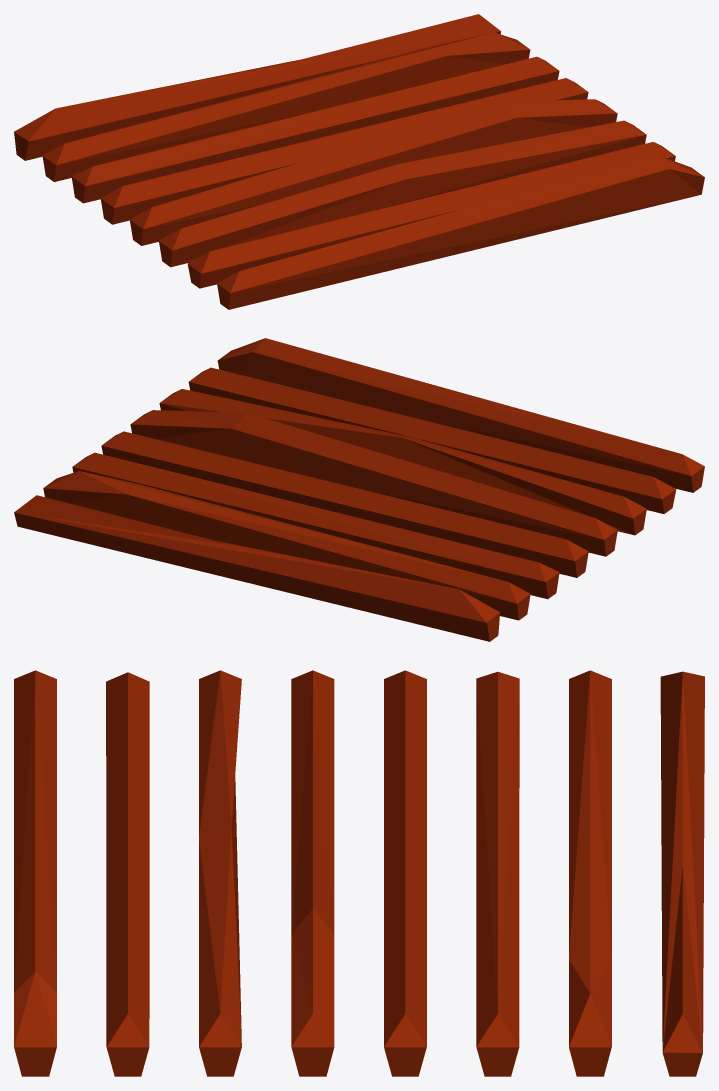
File: co_Vegetables03.fbx
The picture shows the model from 3 angles, top to bottom: view 1: azimuth 30°, elevation 25°; view 2: azimuth 150°, elevation 25°; view 3: azimuth 270°, elevation 25°; orthographic projection. The views are drawn at different scales.
Visible parts, largest first — view 1: Vegetables03; view 2: Vegetables03; view 3: Vegetables03.
Part boxes in pixels (<box>): Vegetables03: <box>14,14,704,309</box>; Vegetables03: <box>14,338,704,641</box>; Vegetables03: <box>14,670,704,1076</box>.
Bounding box in the file's own units: 1962 × 207 × 1554.
